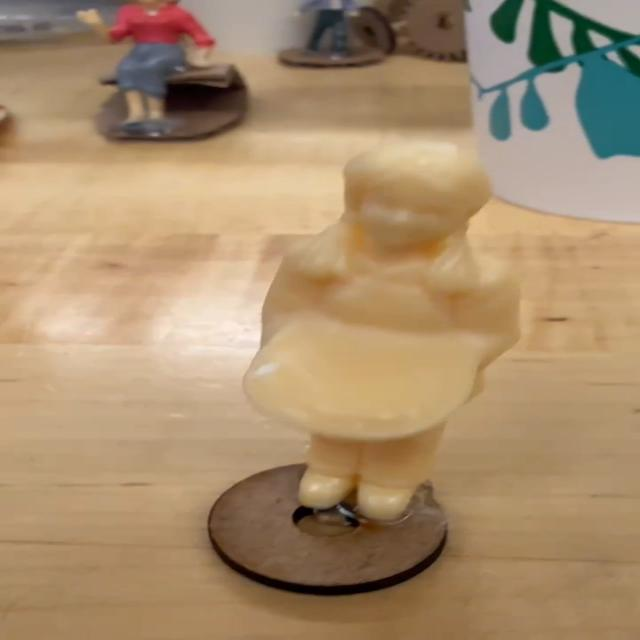Unauthorized: (249, 146, 522, 522)
